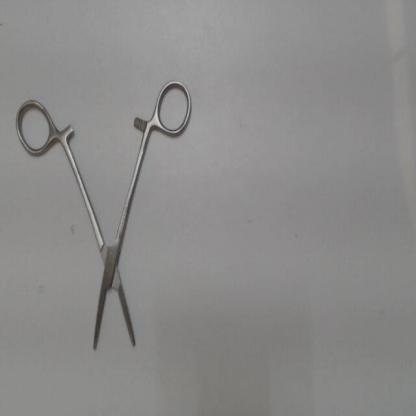Mayo Needle Holder: (10, 72, 197, 364)
